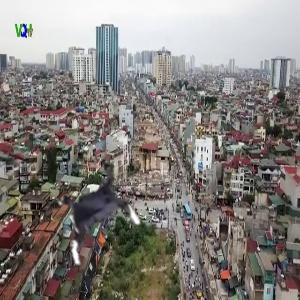drone: (46, 163, 147, 264)
